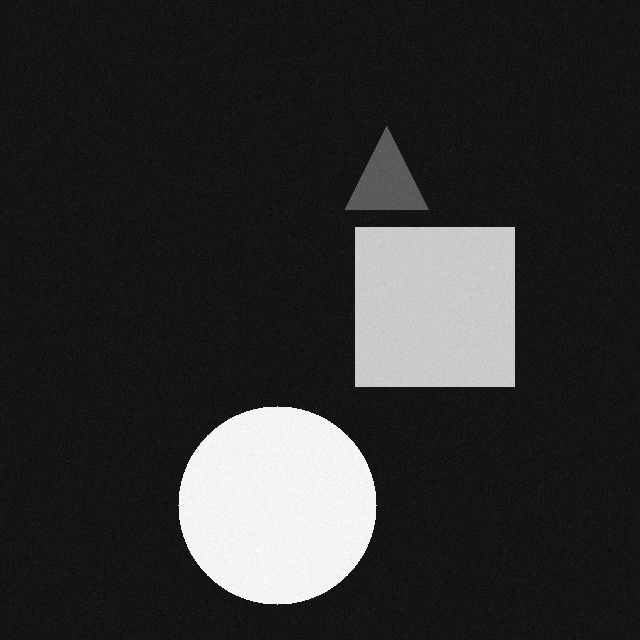circle: (173, 416, 371, 614)
square: (350, 237, 509, 396)
triangle: (340, 136, 423, 219)
